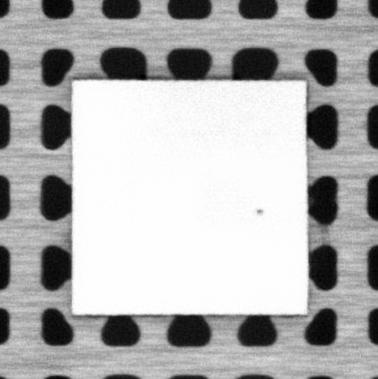DIE_INK: (255, 206, 266, 217)
